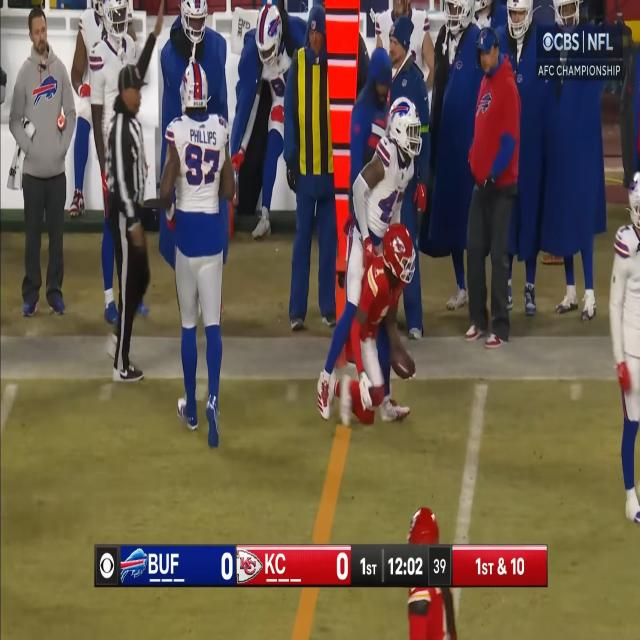Ball: (391, 344, 416, 381)
